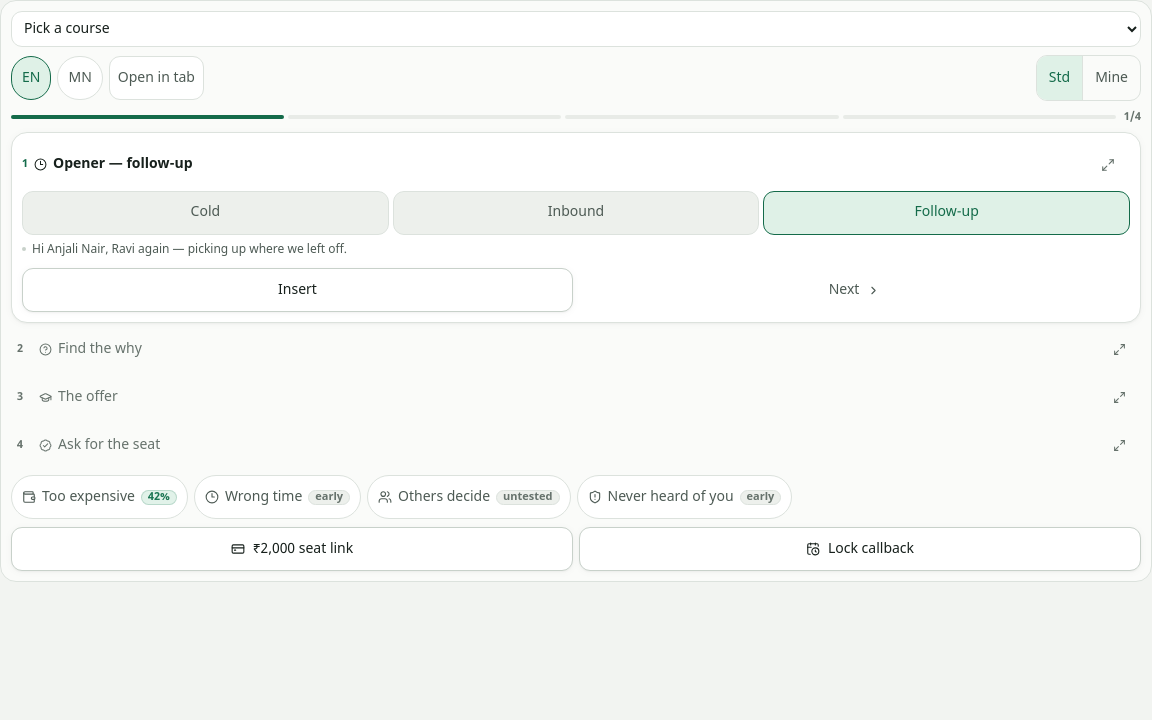
CallHud › an objection chip swaps the roadmap for its rebuttal, and back
Expected: the heading "Opener — follow-up" is shown, [53, 154, 193, 174]
Click the button "Too expensive 42%" at (99, 497), box [11, 475, 188, 519]
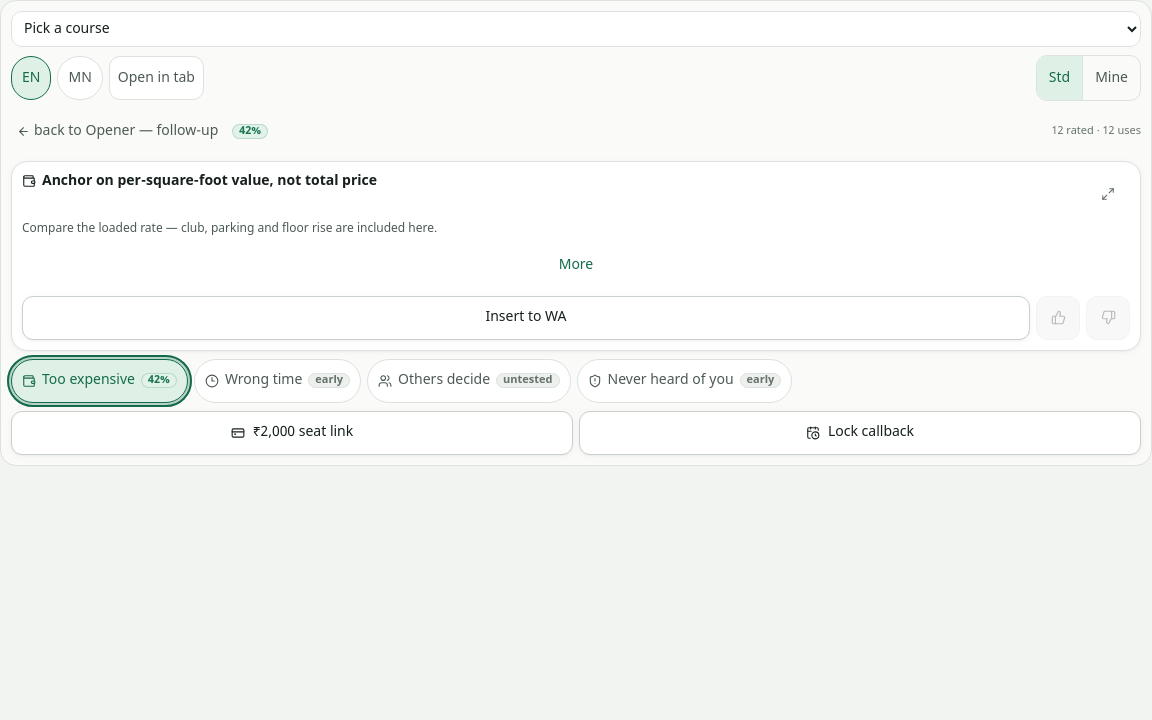
Expected: the heading "Anchor on per-square-foot value, not total price" is shown, [42, 172, 377, 191]
Click the button "back to Opener — follow-up" at (118, 131), box [11, 109, 224, 153]
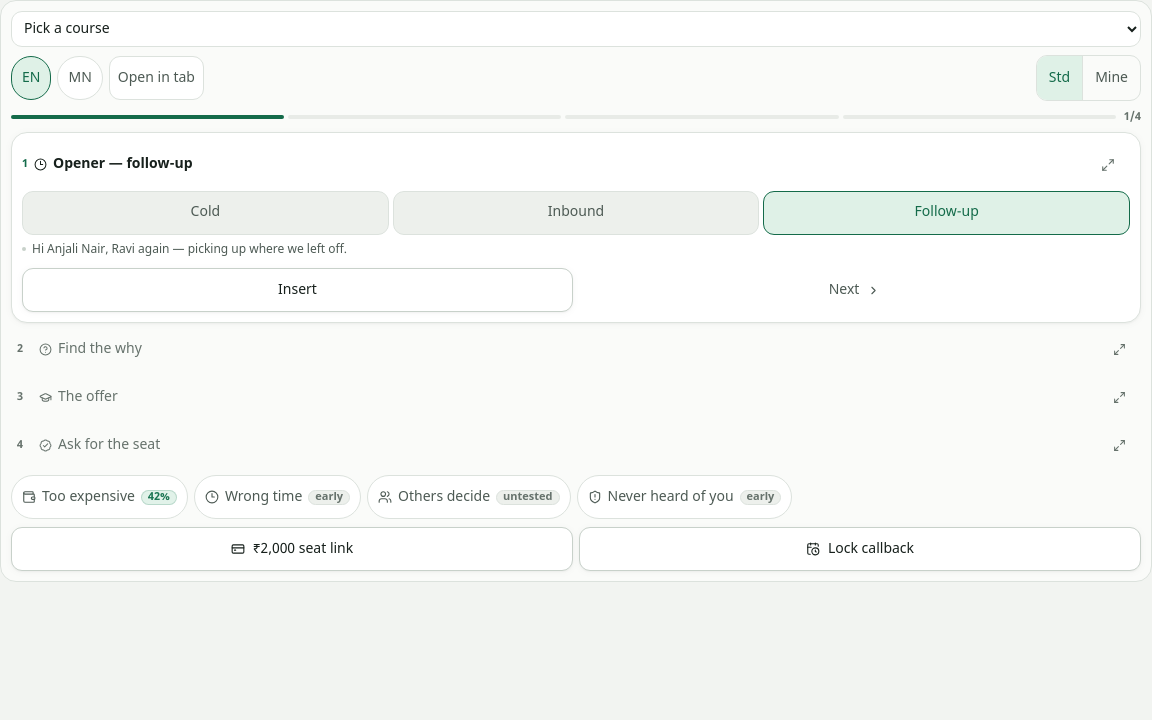
Expected: the text "Hi Anjali Nair, Ravi again — picking up where we left off." is shown, [32, 240, 347, 260]
